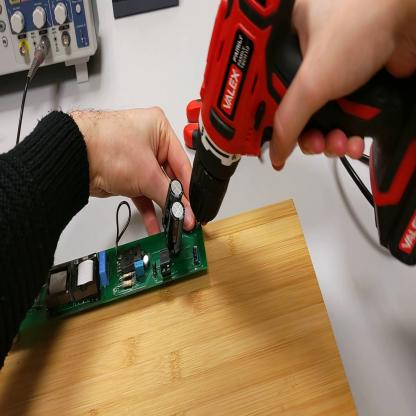electric screwdriver: (190, 2, 416, 270)
hand: (265, 4, 415, 180), (85, 105, 200, 240)
high voltage board: (19, 180, 209, 331)
oscilloscope: (2, 1, 100, 91)
pliers: (183, 98, 202, 148)
working area: (2, 200, 358, 416)
